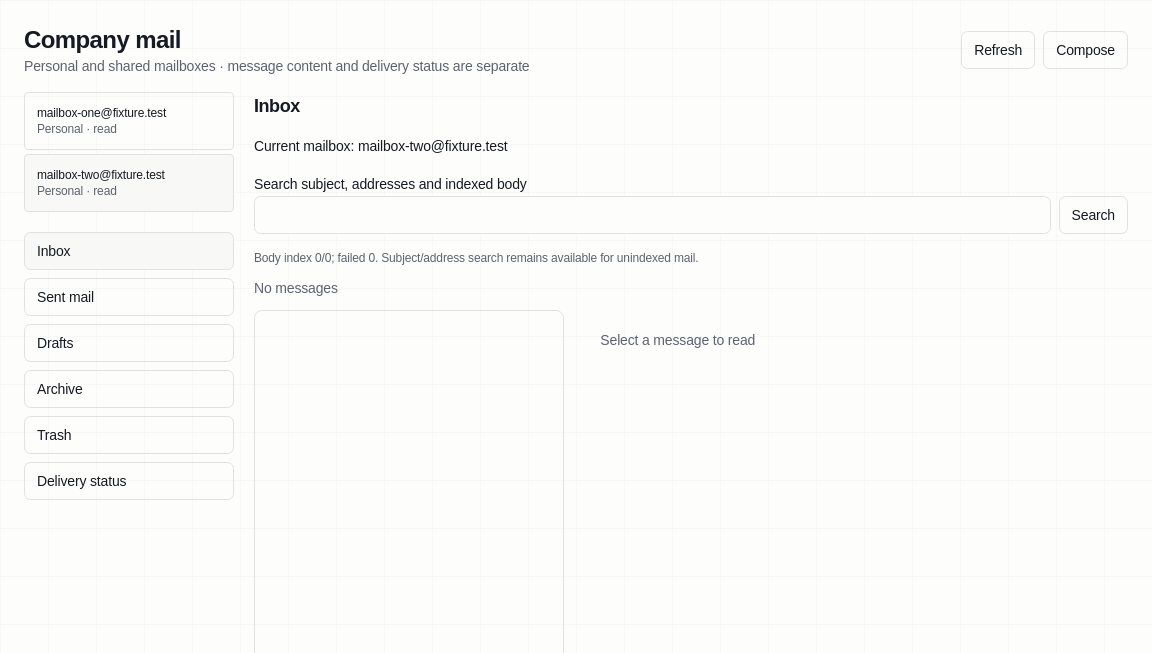
Scenario: explicit mailbox route recovery › R11 retains an authorized sender for a selected read-only mailbox
Expected: the button "mailbox-one@fixture.test Personal · read" is shown, [24,92,234,150]
Click the button "Compose": [1086, 50] box [1043,31,1128,69]
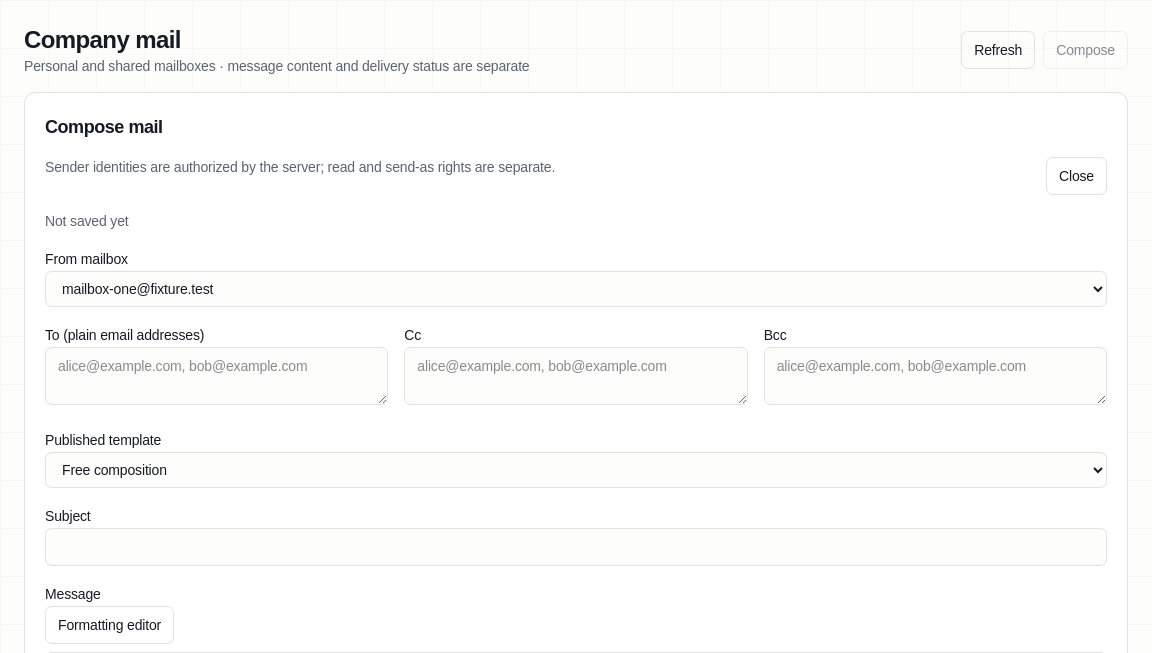
Expected: the dropdown labelled "From mailbox" shows "mailbox-one@fixture.test", [45,271,1107,307]
